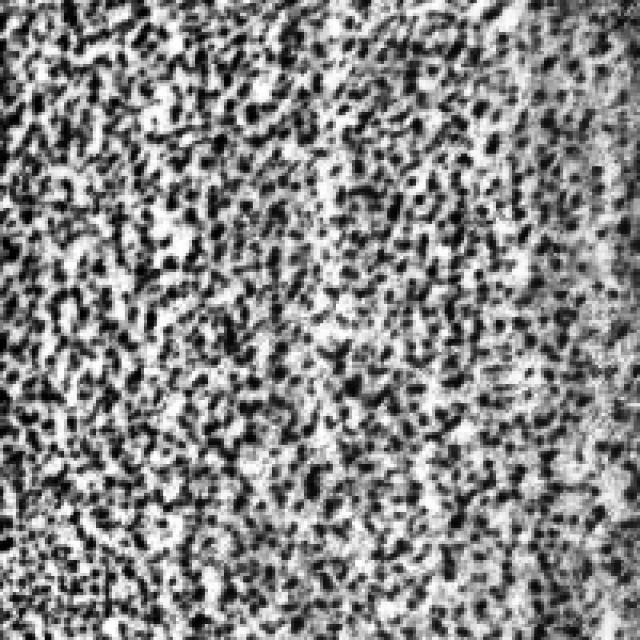Rolled_in_Scale: (3, 0, 634, 634)
